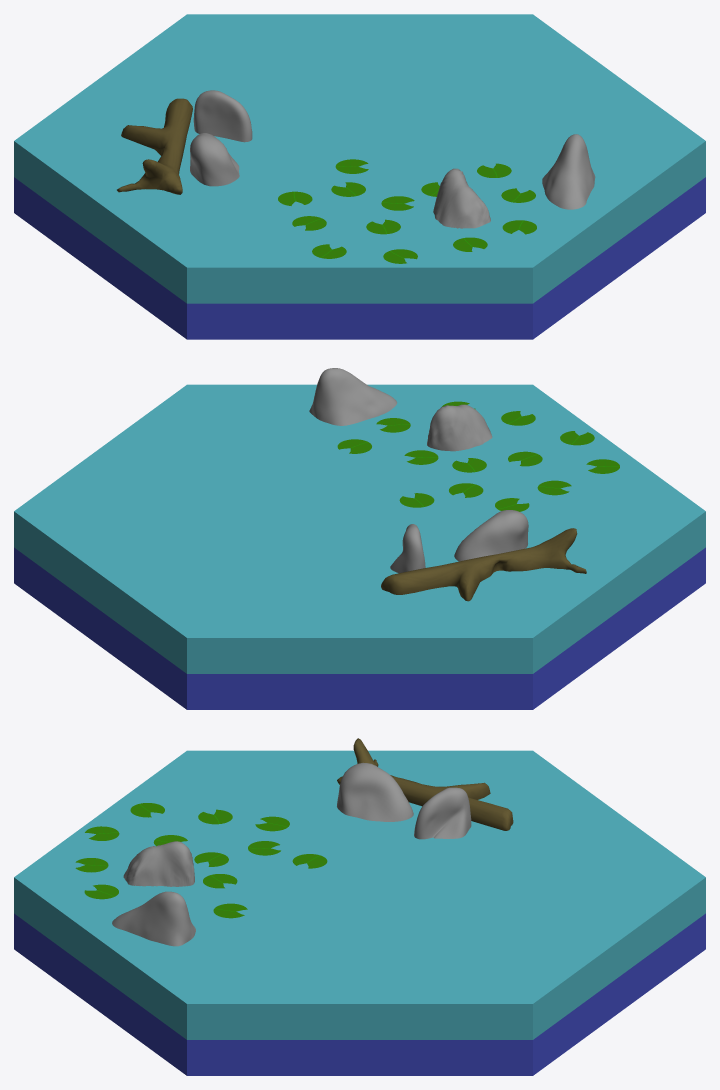
File: Tuile_Eau_N2.fbx
3 views of the same model, one above another, from view 1: azimuth 30°, elevation 25°; view 2: azimuth 150°, elevation 25°; view 3: azimuth 270°, elevation 25° (orthographic).
Visible parts, largest first — view 1: Niv4, niv1, Niv3; view 2: Niv4, niv1, Niv3; view 3: Niv4, niv1, Niv3.
Boxes of the visible parts, box(x1,y1,x2,y2) form: Niv4: box(14, 14, 705, 339); niv1: box(278, 134, 595, 263); Niv3: box(117, 90, 252, 194); Niv4: box(14, 384, 705, 709); niv1: box(309, 368, 619, 511); Niv3: box(381, 510, 586, 601); Niv4: box(14, 750, 705, 1075); niv1: box(75, 803, 327, 946); Niv3: box(337, 738, 513, 839).
Size of the model in its own units: 107 by 22.9 by 124.
